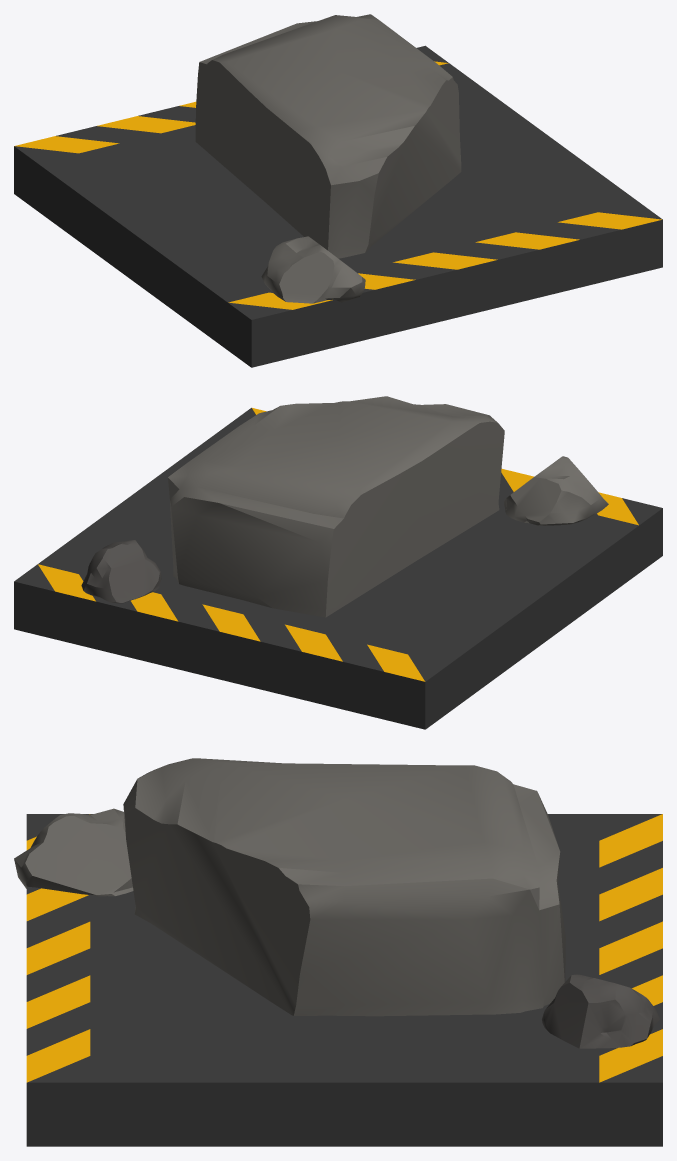
The picture shows the model from 3 angles, top to bottom: view 1: azimuth 30°, elevation 25°; view 2: azimuth 150°, elevation 25°; view 3: azimuth 270°, elevation 25°; orthographic projection. The views are drawn at different scales.
Visible parts, largest first — view 1: rk3; view 2: rk3; view 3: rk3.
Part boxes in pixels (left/top/right/bottom): rk3: left=14, top=14, right=662, bottom=367; rk3: left=14, top=396, right=662, bottom=729; rk3: left=14, top=758, right=662, bottom=1146.
Bounding box in the file's own units: 9 × 3.33 × 9.18.
